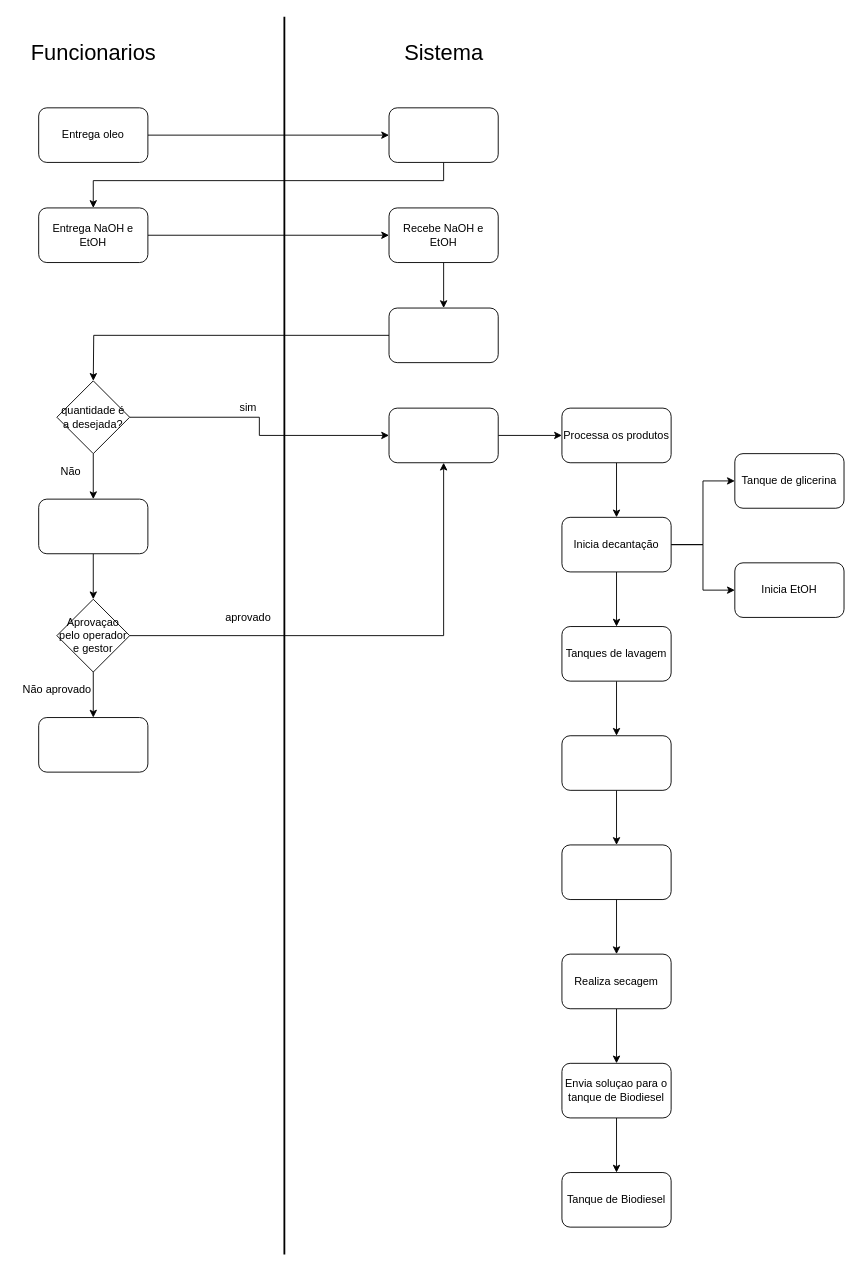
Some shapes in this 860 by 1270 pixel diagram are drawn without their labels. Each missing label, with the centre of its shape:
Fim do processo: [93,744]
Informa quantidade dos produtos: [443,335]
Inicia lavagem: [616,762]
Inicia reator: [443,435]
Modifica valores de entrega e/ou vazáo: [93,526]
Recebe oleo: [443,134]
Secadores: [616,872]
